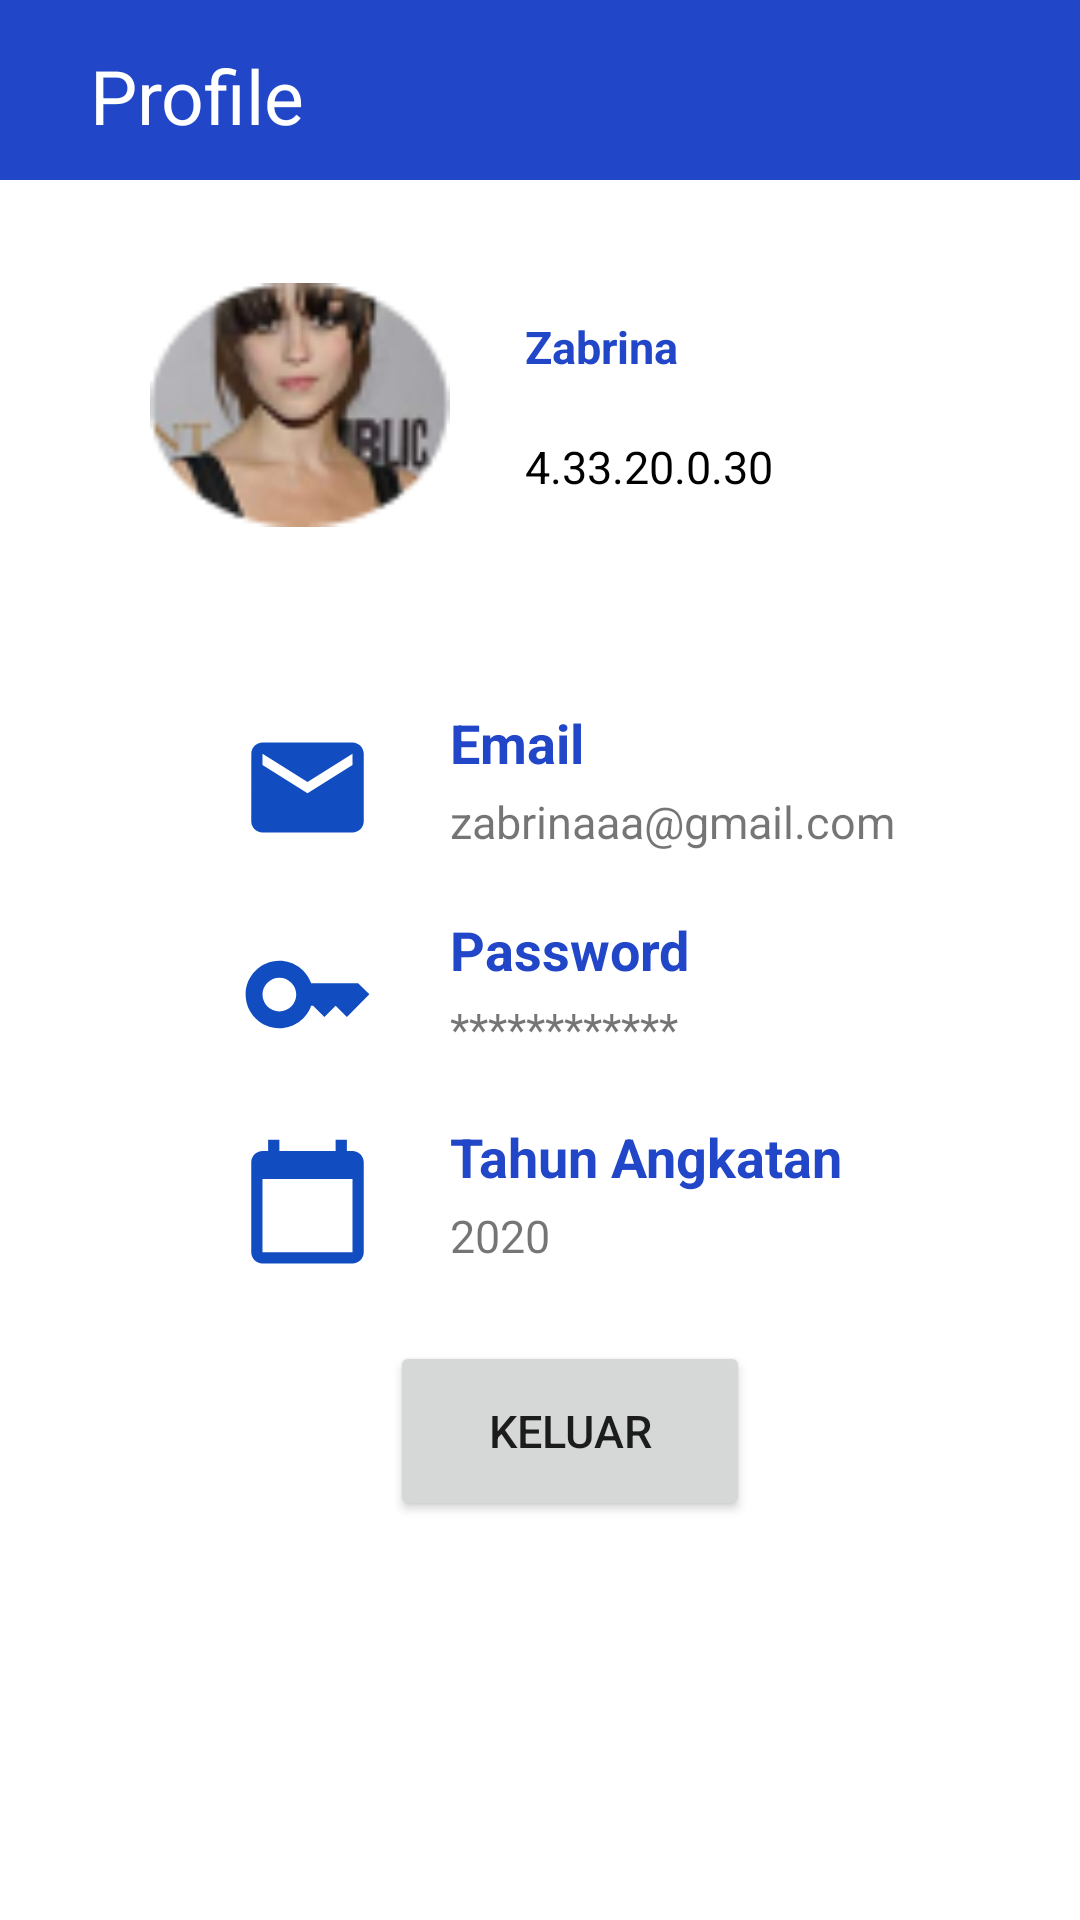

Icon bounding boxes for this 1080px x 1920px phone screenshot, format (x1, y1, x2, y2):
calendar today: (251, 1139, 364, 1264)
key: (245, 960, 370, 1029)
user: (150, 283, 450, 527)
